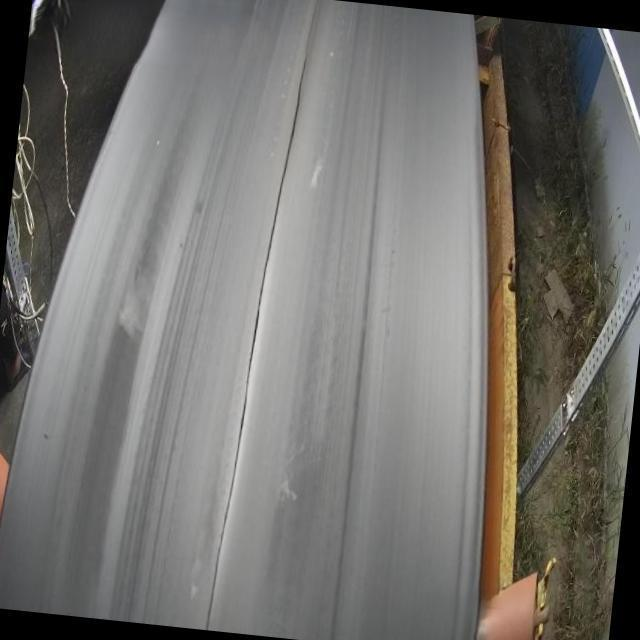Tear: (199, 49, 315, 635)
